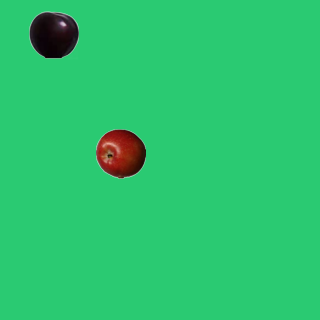Apple Braeburn: (95, 128, 145, 178)
Cherry Wax Black: (28, 9, 78, 59)
